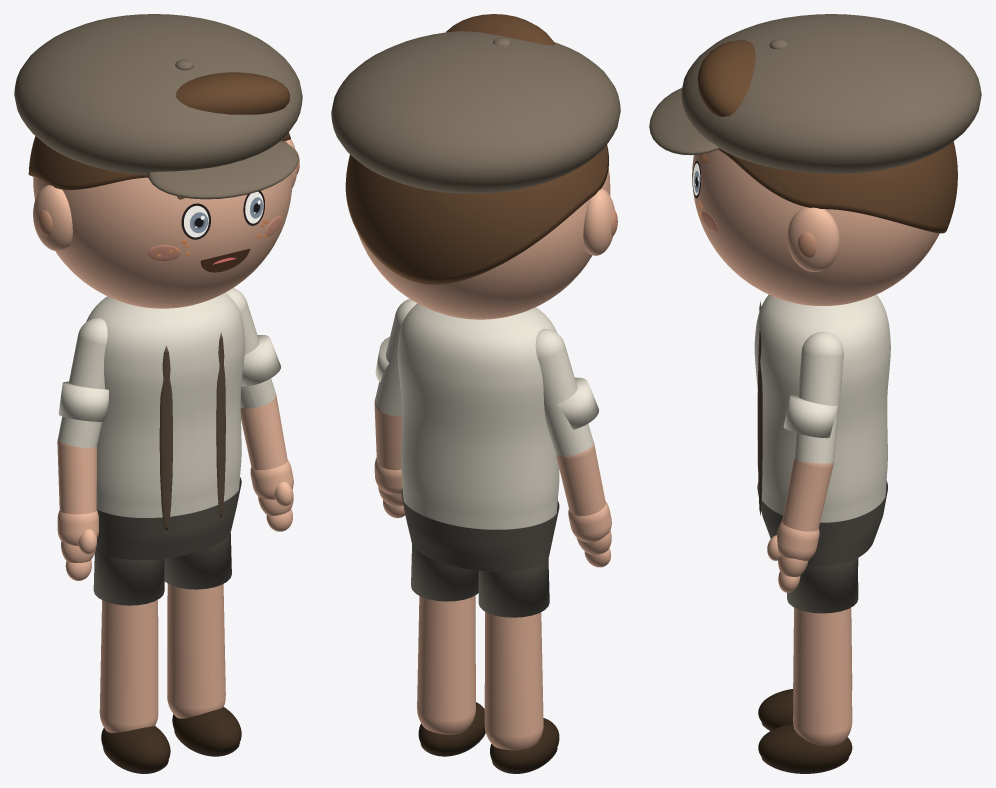
The model's file is opa_jong.glb.
3 views of the same model, side by side, from view 1: azimuth 30°, elevation 25°; view 2: azimuth 150°, elevation 25°; view 3: azimuth 270°, elevation 25° (orthographic).
Parts seen in each view (by area): view 1: opa_jong_pet, opa_jong_romp, opa_jong_hoofd, opa_jong_been_L, opa_jong_been_R, opa_jong_short_heup, opa_jong_pet_klep, opa_jong_haar_kuif, opa_jong_short_R, opa_jong_bovenarm_R, opa_jong_haar, opa_jong_onderarm_R (+13 smaller); view 2: opa_jong_pet, opa_jong_romp, opa_jong_haar, opa_jong_hoofd, opa_jong_been_R, opa_jong_been_L, opa_jong_short_heup, opa_jong_bovenarm_R, opa_jong_short_R, opa_jong_short_L, opa_jong_onderarm_R, opa_jong_bovenarm_L (+8 smaller); view 3: opa_jong_pet, opa_jong_romp, opa_jong_hoofd, opa_jong_haar, opa_jong_been_L, opa_jong_bovenarm_L, opa_jong_haar_kuif, opa_jong_short_heup, opa_jong_short_L, opa_jong_schoen_L, opa_jong_onderarm_L, opa_jong_pet_klep (+5 smaller).
Part boxes in pixels (<box>): opa_jong_pet: <box>14,14,302,174</box>; opa_jong_romp: <box>86,292,245,517</box>; opa_jong_hoofd: <box>33,140,292,308</box>; opa_jong_been_L: <box>167,583,225,718</box>; opa_jong_been_R: <box>99,599,158,732</box>; opa_jong_short_heup: <box>96,477,241,559</box>; opa_jong_pet_klep: <box>148,140,298,199</box>; opa_jong_haar_kuif: <box>176,72,290,114</box>; opa_jong_short_R: <box>93,548,164,605</box>; opa_jong_bovenarm_R: <box>58,318,107,448</box>; opa_jong_haar: <box>28,132,290,189</box>; opa_jong_onderarm_R: <box>57,443,96,514</box>; opa_jong_pet: <box>331,31,620,193</box>; opa_jong_romp: <box>397,303,559,529</box>; opa_jong_haar: <box>345,145,608,284</box>; opa_jong_hoofd: <box>357,169,610,319</box>; opa_jong_been_R: <box>484,611,543,750</box>; opa_jong_been_L: <box>417,595,475,734</box>; opa_jong_short_heup: <box>401,489,559,571</box>; opa_jong_bovenarm_R: <box>535,329,593,459</box>; opa_jong_short_R: <box>478,558,549,617</box>; opa_jong_short_L: <box>411,544,478,601</box>; opa_jong_onderarm_R: <box>556,443,605,515</box>; opa_jong_bovenarm_L: <box>375,299,416,416</box>; opa_jong_pet: <box>681,14,981,173</box>; opa_jong_romp: <box>754,294,890,522</box>; opa_jong_hoofd: <box>692,149,939,305</box>; opa_jong_haar: <box>718,141,957,233</box>; opa_jong_been_L: <box>793,607,852,746</box>; opa_jong_bovenarm_L: <box>794,331,843,468</box>; opa_jong_haar_kuif: <box>697,40,755,116</box>; opa_jong_short_heup: <box>757,481,887,565</box>; opa_jong_short_L: <box>787,558,858,613</box>; opa_jong_schoen_L: <box>758,724,852,769</box>; opa_jong_onderarm_L: <box>782,458,832,531</box>; opa_jong_pet_klep: <box>649,88,719,155</box>.
Bounding box in the file's own units: 0.6887 × 1.8 × 0.7632.
